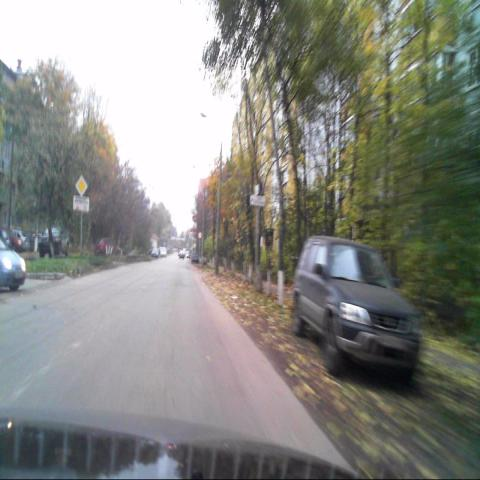2_1: (75, 175, 88, 196)
